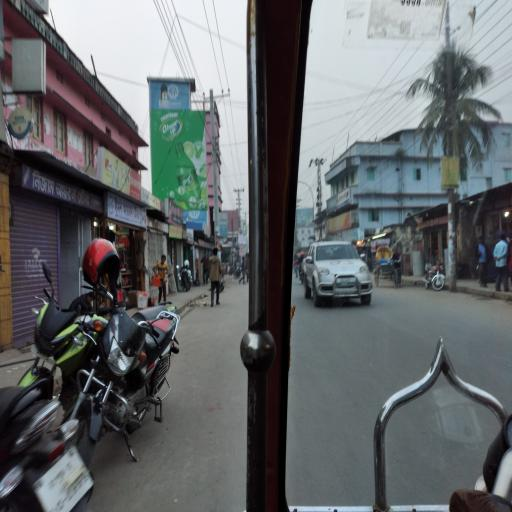car: (303, 240, 375, 308)
motorbike: (85, 283, 186, 477), (15, 270, 119, 393), (3, 383, 100, 511), (426, 261, 447, 293), (177, 262, 194, 293)
rickshaw: (374, 246, 403, 293)
